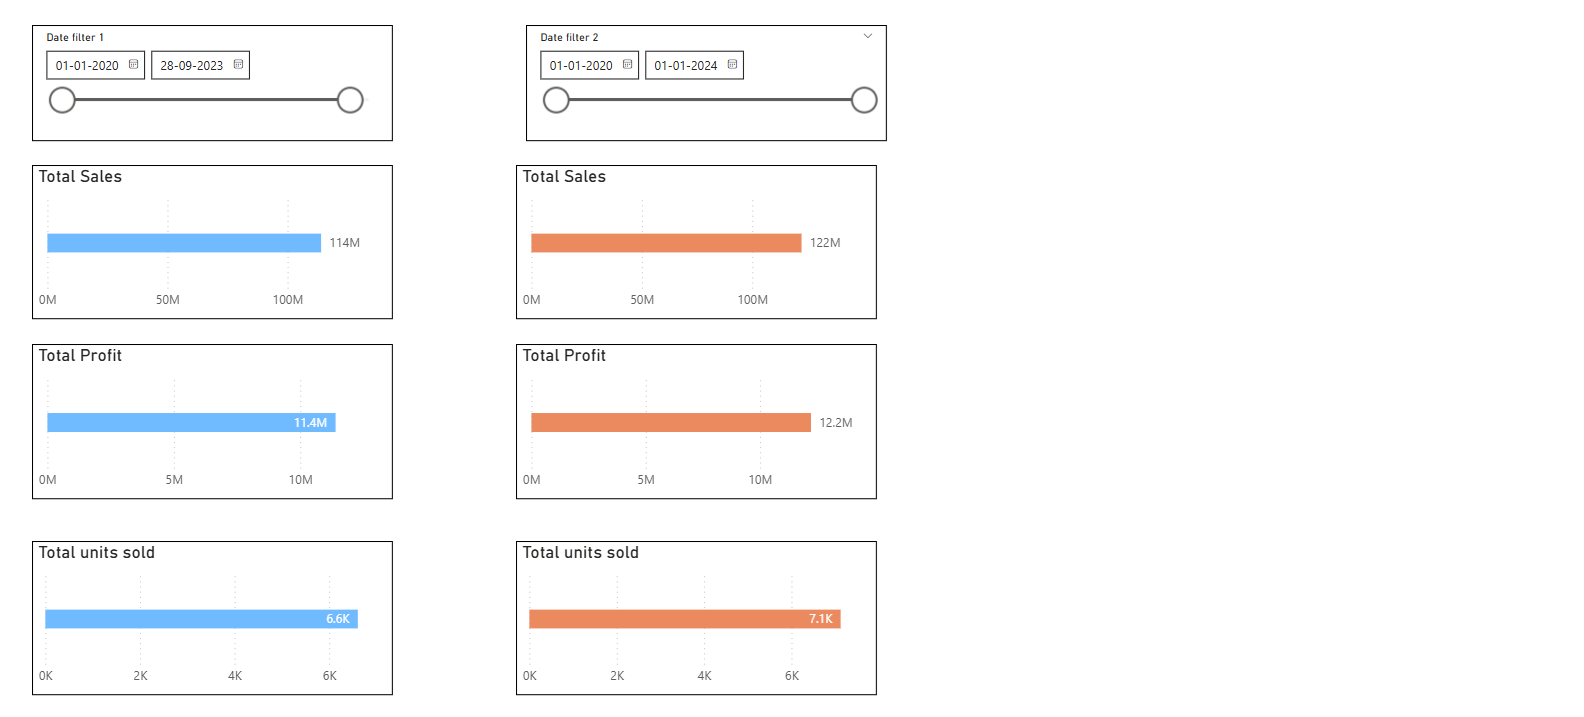

The page's visual inventory and layout, read from the dashboard file:
{"tool":"powerbi","page":{"name":"Comparison Sales/Profit/Units sold","canvas":[1280,720],"ordinal":3},"visuals":[{"type":"slicer","fields":{"Values":["Fact Table.Date (dd/mm/yyyy)"]},"box":[70,39.9,351.1,112.8],"z":0},{"type":"slicer","fields":{"Values":["Fact Table.Date (dd/mm/yyyy)"]},"box":[550.5,39.9,351.1,112.8],"z":1000},{"type":"barChart","title":"Total Sales","fields":{"Y":["Sum(Fact Table.Net Sales  )"]},"box":[70,176,351.1,149.8],"z":2000},{"type":"barChart","title":"Total Profit","fields":{"Y":["Sum(Fact Table.Profit)"]},"box":[70,350.2,351.1,150.8],"z":3000},{"type":"barChart","title":"Total units sold","fields":{"Y":["Sum(Fact Table.Units Sold)"]},"box":[70,541.8,351.1,149.8],"z":4000},{"type":"barChart","title":"Total Sales","fields":{"Y":["Sum(Fact Table.Net Sales  )"]},"box":[540.8,176,351.1,149.8],"z":5000},{"type":"barChart","title":"Total Profit","fields":{"Y":["Sum(Fact Table.Profit)"]},"box":[540.8,350.2,351.1,150.8],"z":6000},{"type":"barChart","title":"Total units sold","fields":{"Y":["Sum(Fact Table.Units Sold)"]},"box":[540.8,541.8,351.1,149.8],"z":7000}]}

Visuals, with their boxes in screenshot pixels (x1, y1, x2, y2):
slicer - Fact Table.Date (dd/mm/yyyy): {"x1": 34, "y1": 24, "x2": 392, "y2": 139}
slicer - Fact Table.Date (dd/mm/yyyy): {"x1": 524, "y1": 24, "x2": 882, "y2": 139}
"Total Sales" barChart: {"x1": 34, "y1": 163, "x2": 392, "y2": 316}
"Total Profit" barChart: {"x1": 34, "y1": 340, "x2": 392, "y2": 494}
"Total units sold" barChart: {"x1": 34, "y1": 536, "x2": 392, "y2": 688}
"Total Sales" barChart: {"x1": 514, "y1": 163, "x2": 872, "y2": 316}
"Total Profit" barChart: {"x1": 514, "y1": 340, "x2": 872, "y2": 494}
"Total units sold" barChart: {"x1": 514, "y1": 536, "x2": 872, "y2": 688}
